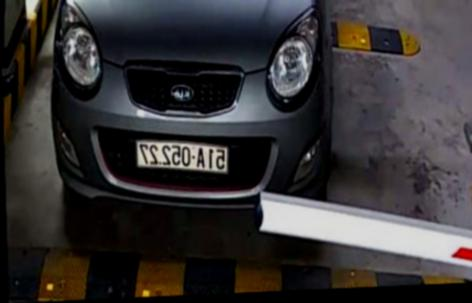License_Plate: (130, 136, 236, 180)
